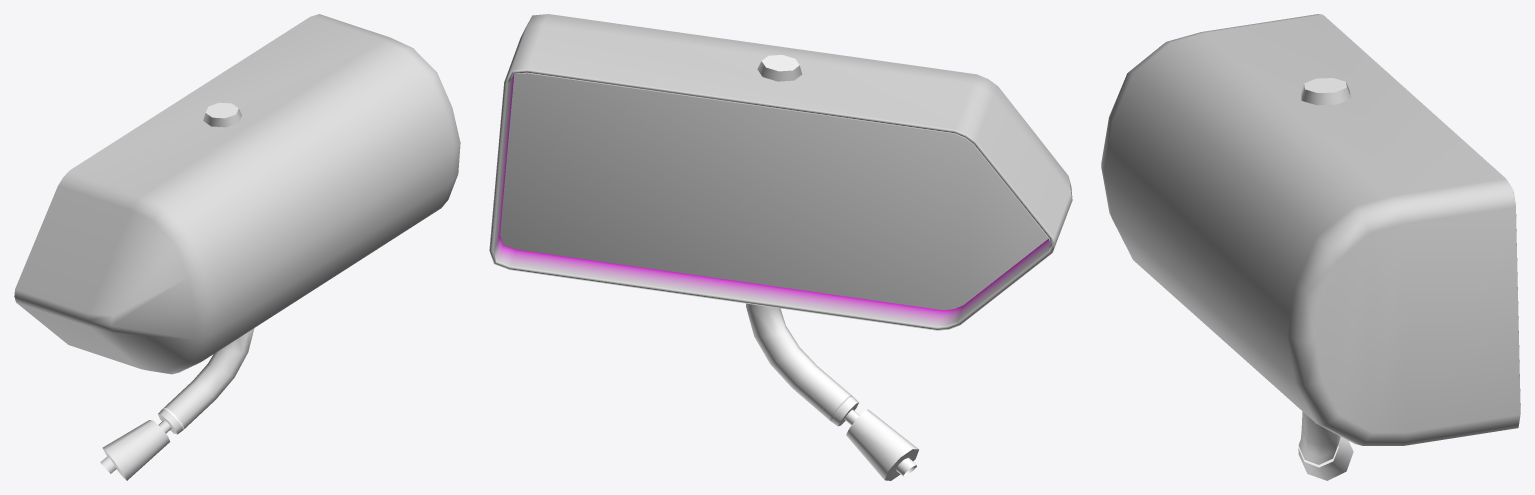
Rendered from Car_Buick_GrandNational_1987_MirrorL_SetXU.fbx.
3 views of the same model, side by side, from view 1: azimuth 30°, elevation 25°; view 2: azimuth 150°, elevation 25°; view 3: azimuth 270°, elevation 25° (orthographic). The views are drawn at different scales.
Visible parts, largest first — view 1: MirrorL 6; view 2: MirrorL 6; view 3: MirrorL 6.
Part boxes in pixels (x1,y1,x2,y2): MirrorL 6: (14,14,460,480); MirrorL 6: (489,14,1072,480); MirrorL 6: (1101,14,1520,480).
Bounding box in the file's own units: 0.1897 × 0.1402 × 0.1137.
